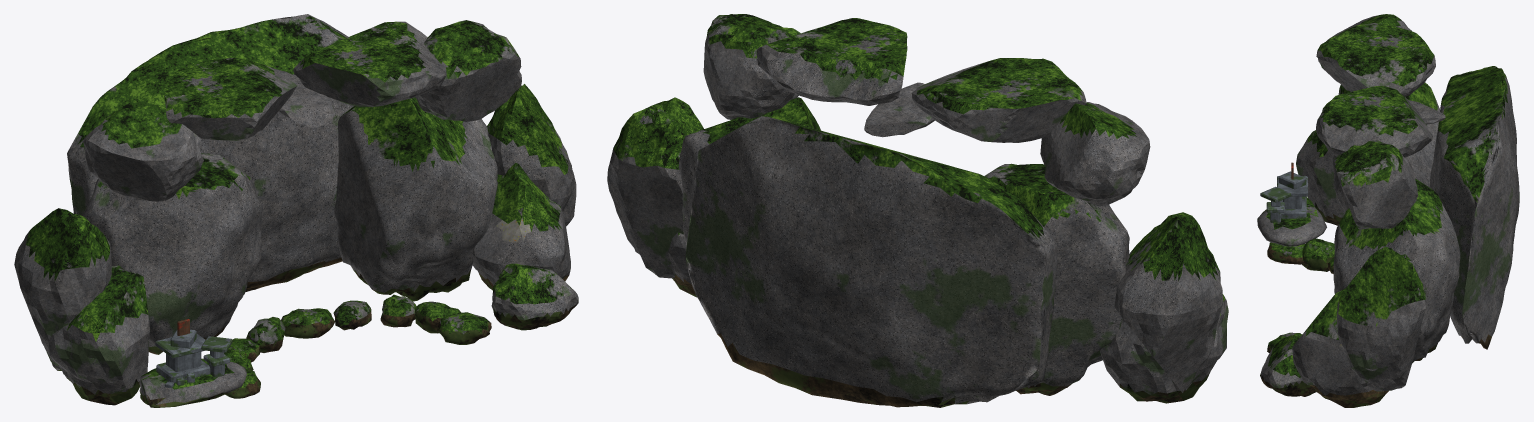
File: Falls_Alcove.glb
3 views of the same model, side by side, from view 1: azimuth 30°, elevation 25°; view 2: azimuth 150°, elevation 25°; view 3: azimuth 270°, elevation 25° (orthographic). The views are drawn at different scales.
Parts seen in each view (by area): view 1: Falls_Alcove__Rock_Back, Falls_Alcove__Rock_Sides, Falls_Alcove__Rock_Lip, Falls_Alcove__Rock_Rim, Falls_Alcove__Shrine_Stone; view 2: Falls_Alcove__Rock_Back, Falls_Alcove__Rock_Lip, Falls_Alcove__Rock_Sides; view 3: Falls_Alcove__Rock_Back, Falls_Alcove__Rock_Sides, Falls_Alcove__Rock_Lip, Falls_Alcove__Rock_Rim, Falls_Alcove__Shrine_Stone.
Part boxes in pixels (<box>): Falls_Alcove__Rock_Back: <box>67,14,497,354</box>; Falls_Alcove__Rock_Sides: <box>14,84,578,405</box>; Falls_Alcove__Rock_Lip: <box>83,20,521,201</box>; Falls_Alcove__Rock_Rim: <box>139,294,491,407</box>; Falls_Alcove__Shrine_Stone: <box>155,329,232,388</box>; Falls_Alcove__Rock_Back: <box>678,97,1129,407</box>; Falls_Alcove__Rock_Lip: <box>703,14,1150,206</box>; Falls_Alcove__Rock_Sides: <box>607,97,1228,403</box>; Falls_Alcove__Rock_Back: <box>1332,66,1519,363</box>; Falls_Alcove__Rock_Sides: <box>1260,85,1426,407</box>; Falls_Alcove__Rock_Lip: <box>1316,14,1445,229</box>; Falls_Alcove__Rock_Rim: <box>1257,197,1334,352</box>; Falls_Alcove__Shrine_Stone: <box>1260,171,1307,222</box>.
Bounding box in the file's own units: 46.04 × 21.6 × 22.09.
3 materials, 3 textured.
